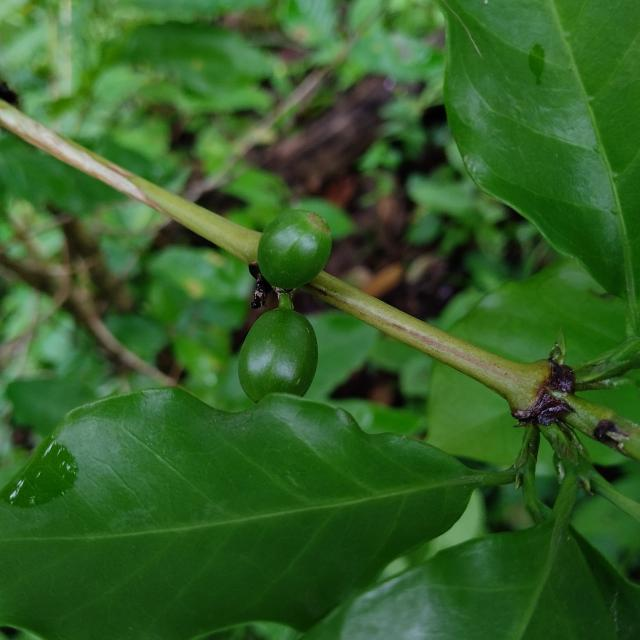green: (238, 308, 318, 402), (258, 209, 332, 289)
